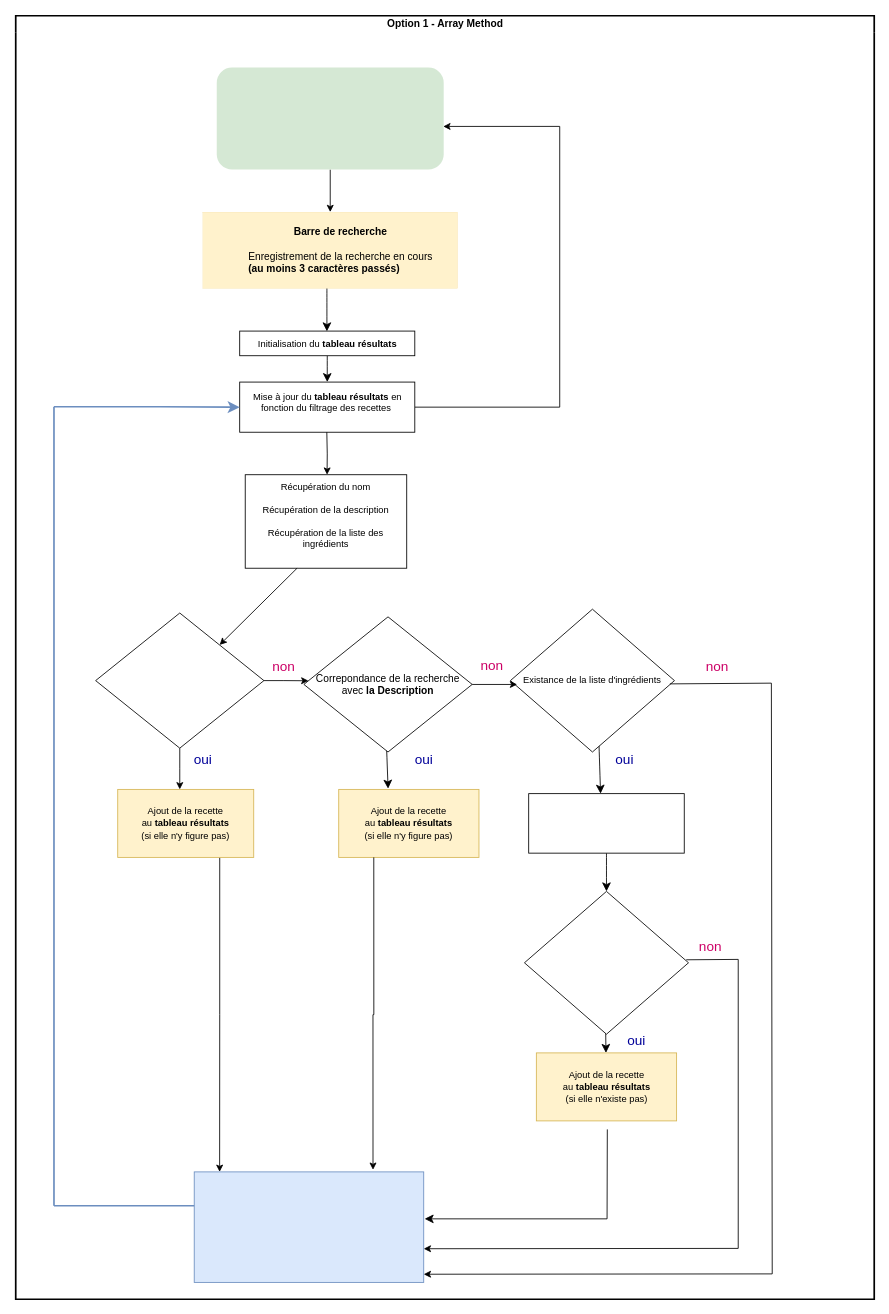
The diagram is 889 pixels wide and 1314 high, and some of its shapes have lost their labels. The centre of each missing label's shape, as x and y in pixels:
"Affichage des recettes disponibles" belongs at point 329,118.
"Correpondance de la recherche avec le Nom" belongs at point 179,680.
"Correpondance de la recherche avec un Ingrédient" belongs at point 606,962.
"Filtrage des recettes" belongs at point 308,1226.
"Itération sur chaque ingrédient de la liste des ingrédients" belongs at point 606,823.
